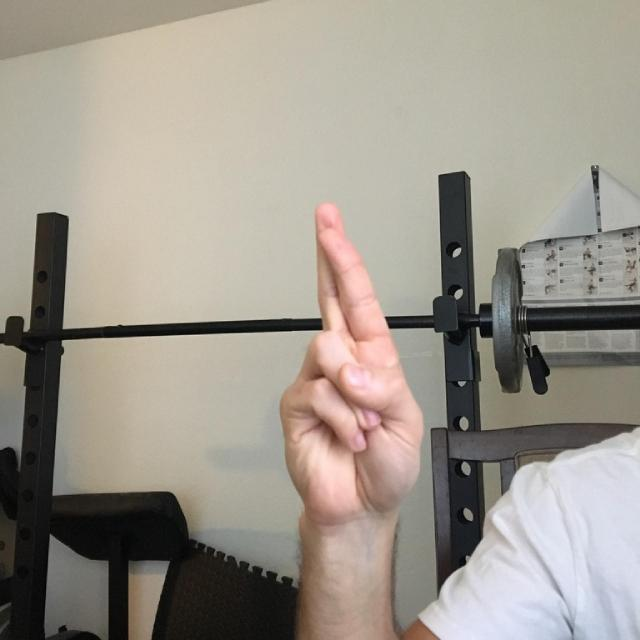R: (242, 162, 493, 539)
